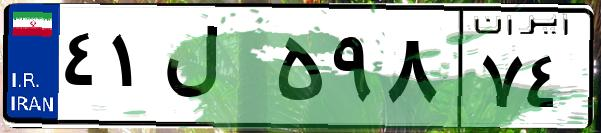1: (110, 28, 158, 98)
4: (57, 26, 110, 100), (525, 38, 570, 115)
5: (270, 28, 330, 110)
7: (475, 38, 525, 113)
8: (385, 28, 445, 110)
9: (330, 28, 385, 110)
ل: (158, 20, 270, 120)
